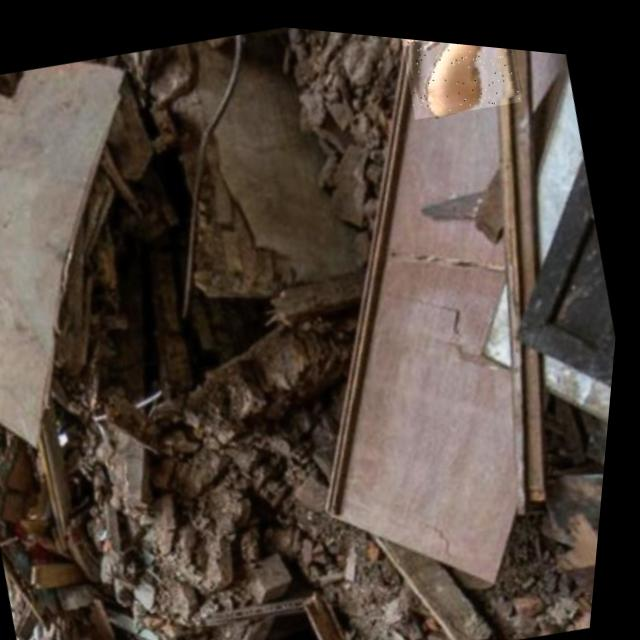Person in Rubble: (388, 30, 526, 117)
